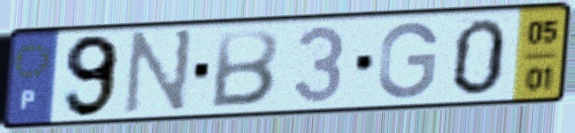0: (450, 16, 512, 98)
3: (290, 22, 347, 108)
9: (60, 32, 126, 120)
B: (206, 27, 283, 110)
G: (374, 19, 442, 102)
N: (119, 26, 197, 117)
